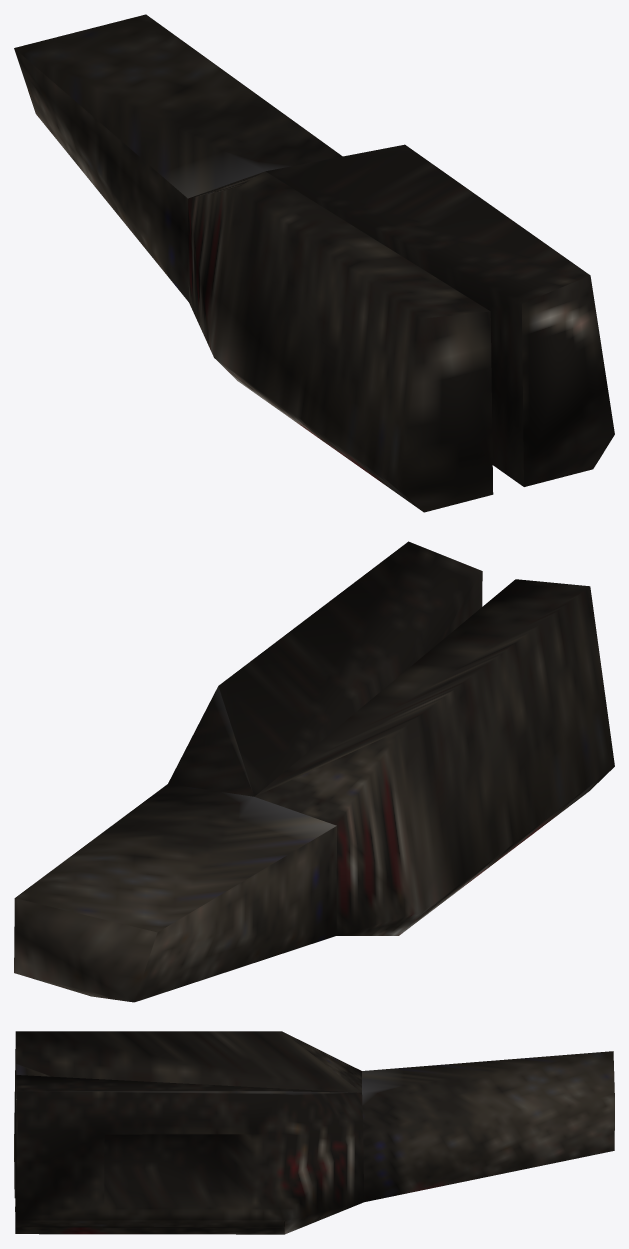
Rendered from DPISTOL.obj.
3 views of the same model, one above another, from view 1: azimuth 30°, elevation 25°; view 2: azimuth 150°, elevation 25°; view 3: azimuth 270°, elevation 25° (orthographic). The views are drawn at different scales.
Visible parts, largest first — view 1: DPistol; view 2: DPistol; view 3: DPistol.
Boxes of the visible parts, <box> form: DPistol: <box>14,14,614,512</box>; DPistol: <box>14,541,614,1002</box>; DPistol: <box>14,1031,614,1234</box>.
Bounding box in the file's own units: 39.02 × 33.33 × 126.
Materials: 1 (1 with a texture image).
